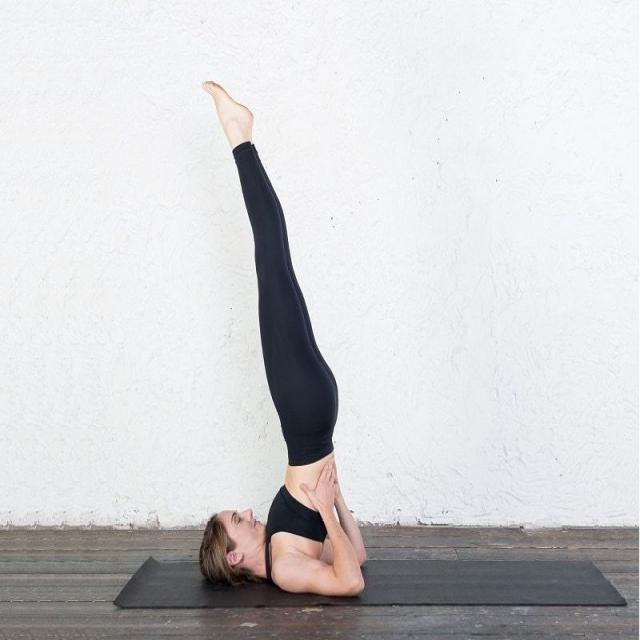yoga-pose shoulderstand: (182, 72, 372, 606)
